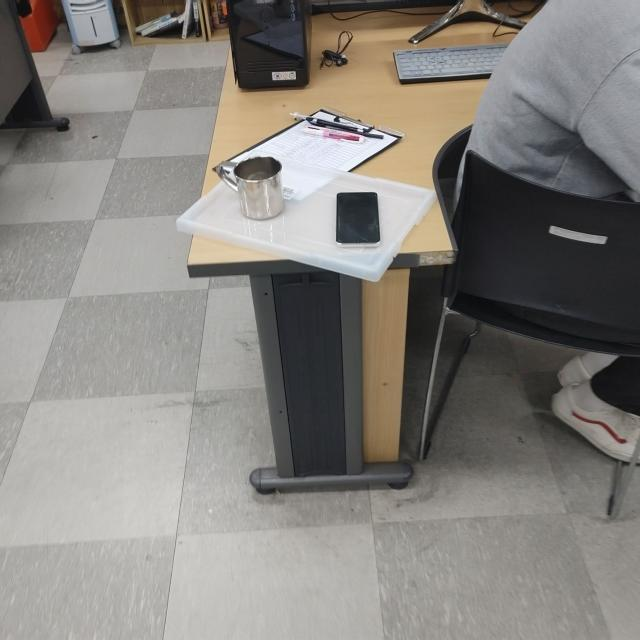cup: (210, 157, 286, 221)
phone: (333, 189, 382, 246)
